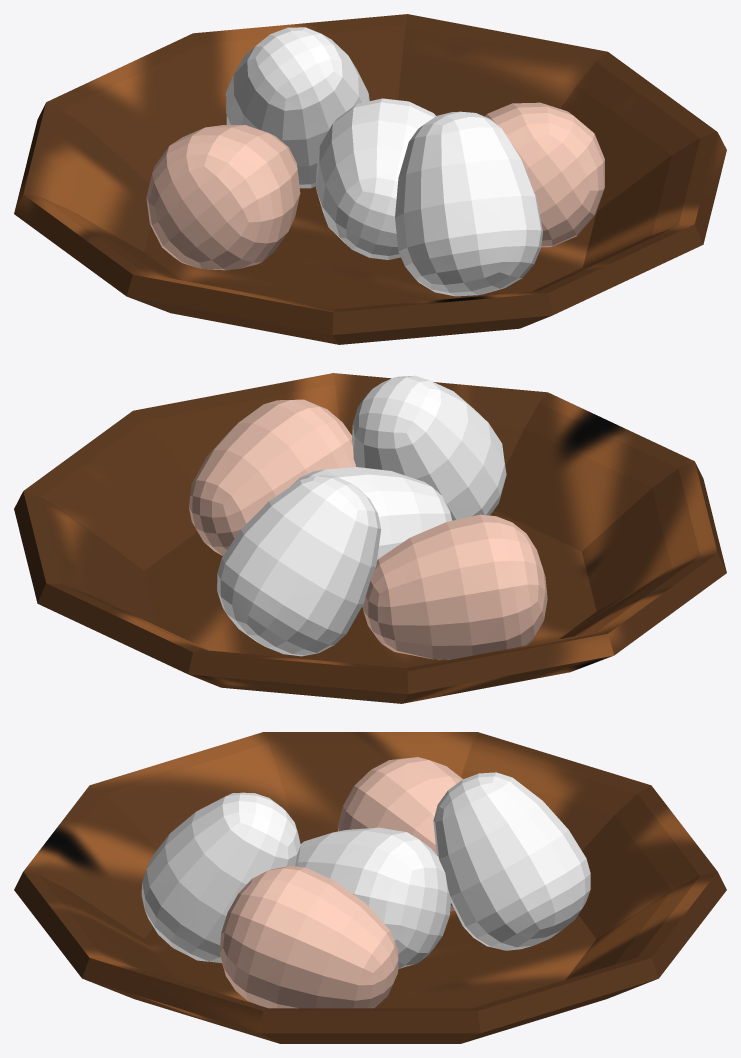
Rendered from egg_remain5.obj.
The picture shows the model from 3 angles, top to bottom: view 1: azimuth 30°, elevation 25°; view 2: azimuth 150°, elevation 25°; view 3: azimuth 270°, elevation 25°; orthographic projection. The views are drawn at different scales.
Visible parts, largest first — view 1: Egg_Whole_Cube.001; view 2: Egg_Whole_Cube.001; view 3: Egg_Whole_Cube.001.
Boxes of the visible parts, x1,y1,x2,y2 form: Egg_Whole_Cube.001: (14,14,726,344); Egg_Whole_Cube.001: (14,373,726,703); Egg_Whole_Cube.001: (14,732,726,1043).
Bounding box in the file's own units: 1.74 × 0.5022 × 1.83.
1 material, 1 textured.
